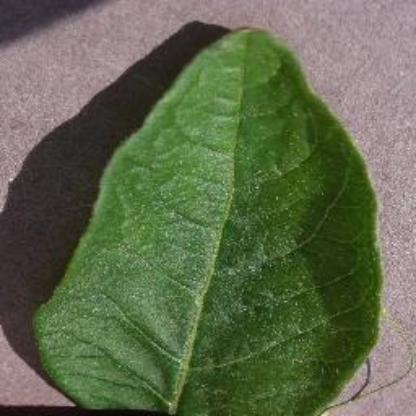Healthy-plant: (30, 21, 384, 415)
